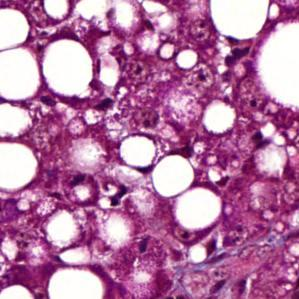steatosis: (38, 38, 98, 100), (150, 154, 196, 198)
